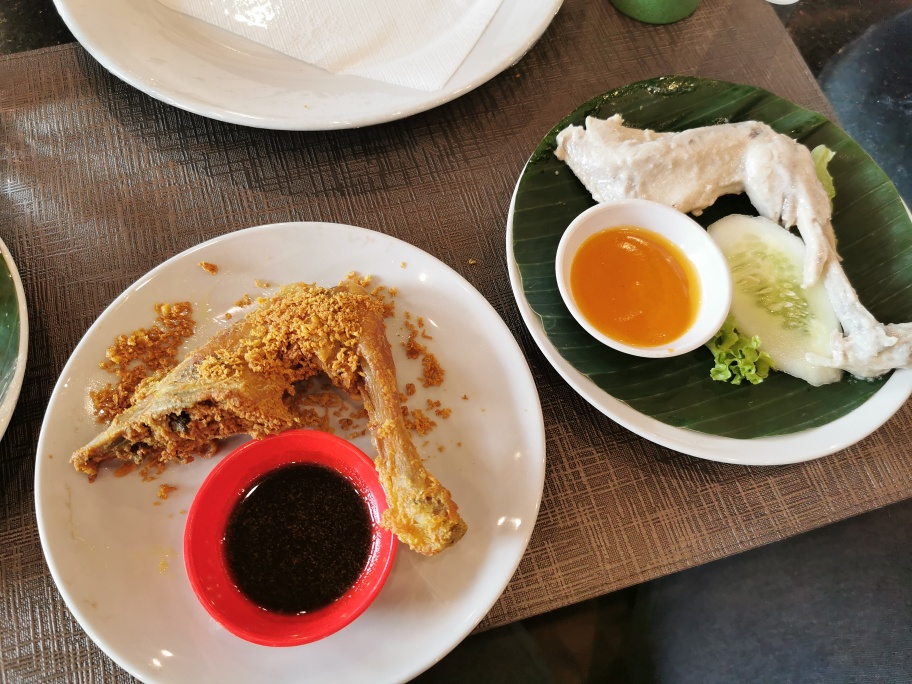ayam goreng: (72, 281, 466, 566)
ayam pop: (551, 115, 912, 372)
extra: (561, 199, 850, 383)
kecap: (177, 430, 386, 624)
